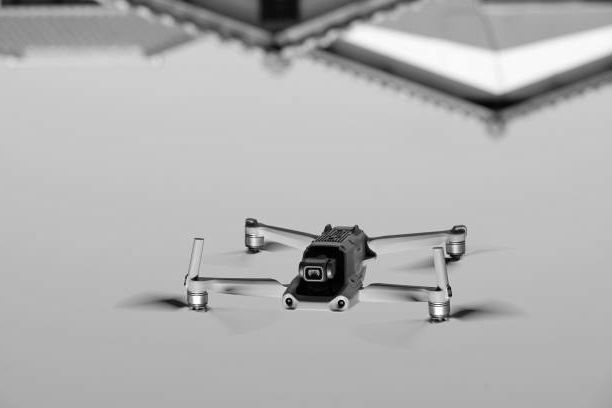Drone: (107, 210, 527, 335)
